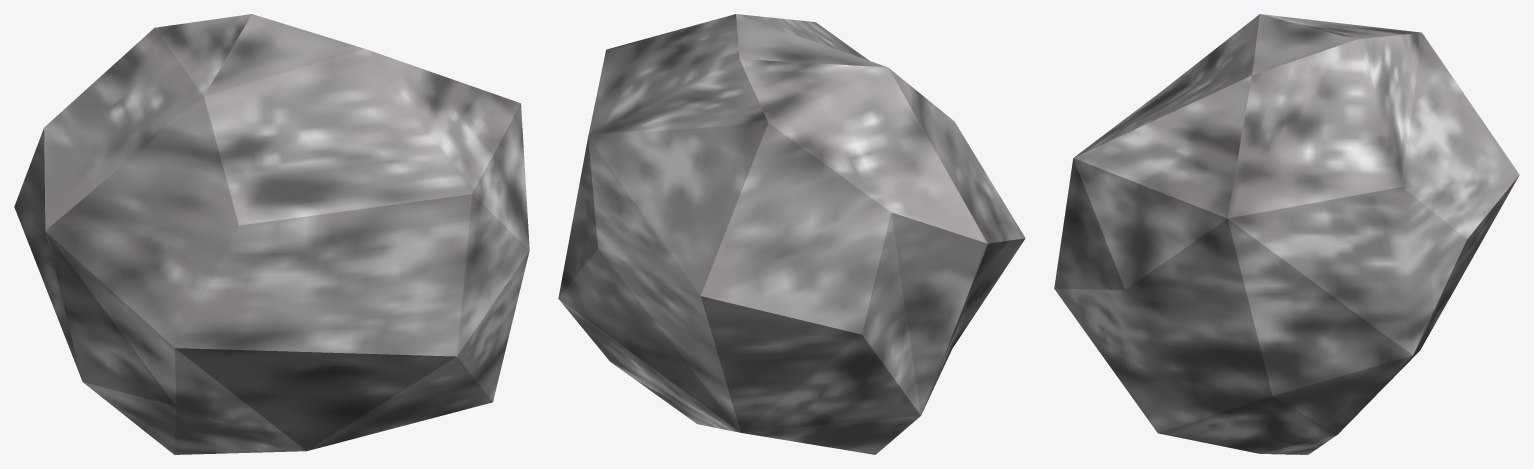
File: small_rock_v3.glb
3 views of the same model, side by side, from view 1: azimuth 30°, elevation 25°; view 2: azimuth 150°, elevation 25°; view 3: azimuth 270°, elevation 25° (orthographic). The views are drawn at different scales.
Parts seen in each view (by area): view 1: Sphere.008; view 2: Sphere.008; view 3: Sphere.008.
Part boxes in pixels (box(x1,y1,x2,y2)): Sphere.008: box(14, 14, 529, 454); Sphere.008: box(558, 14, 1025, 454); Sphere.008: box(1054, 14, 1519, 454).
Size of the model in its own units: 1.94 by 1.74 by 1.91.
1 material, 1 textured.
